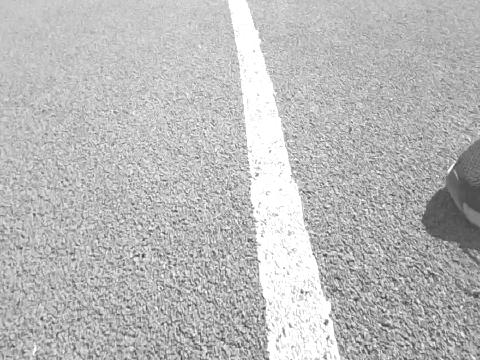Lines: (227, 0, 342, 360)
